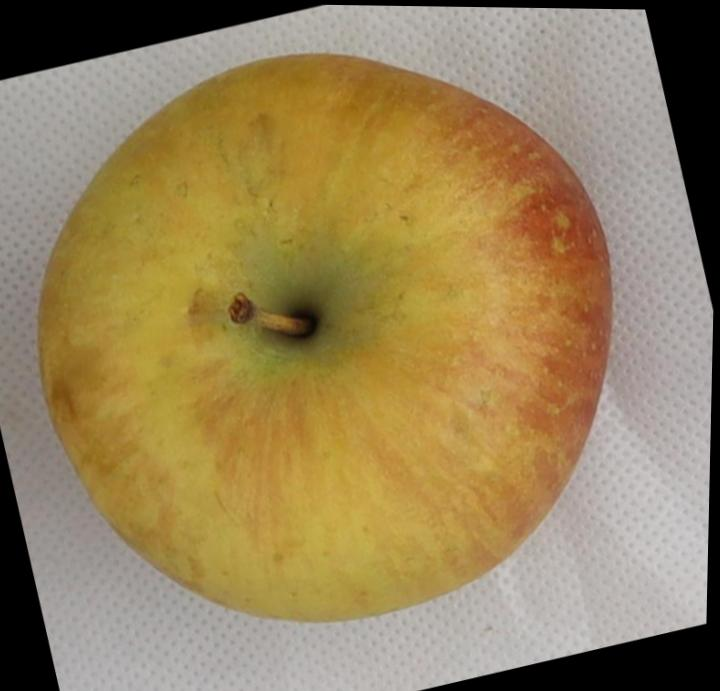apple: (37, 53, 610, 619)
bruise_discoloration: (254, 245, 384, 351)
